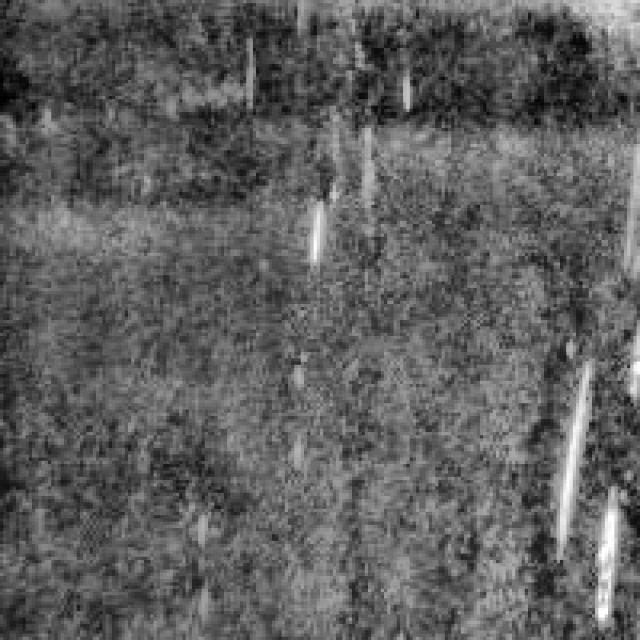Inclusion: (550, 348, 628, 628), (297, 179, 348, 272)
